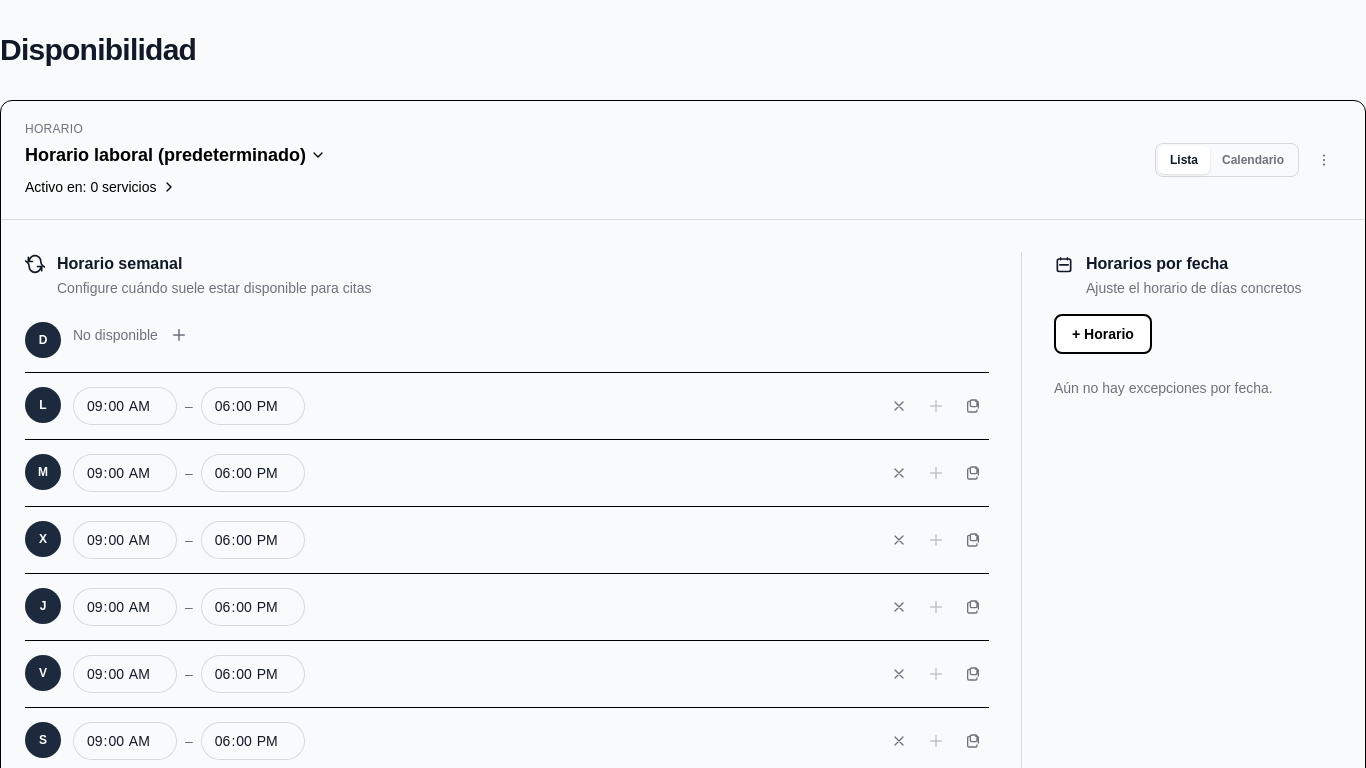
AdminAvailabilityPage › saves custom-hour exceptions including from/to in the POST body
Click the button "+ Horario". click: (1103, 334)
box: [1054,314,1152,354]
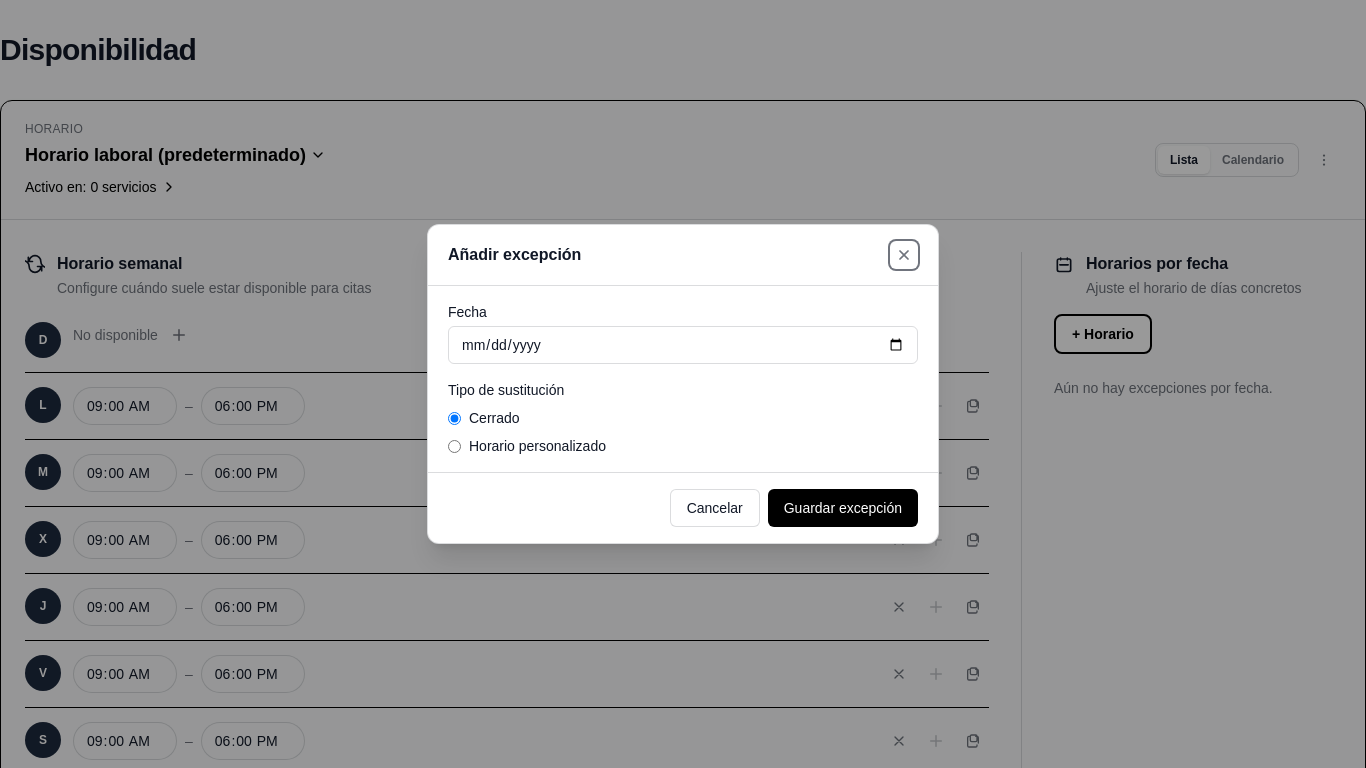
Type "2026-11-02" into the date field labelled "Fecha". click: (683, 345)
box: [448,326,918,364]
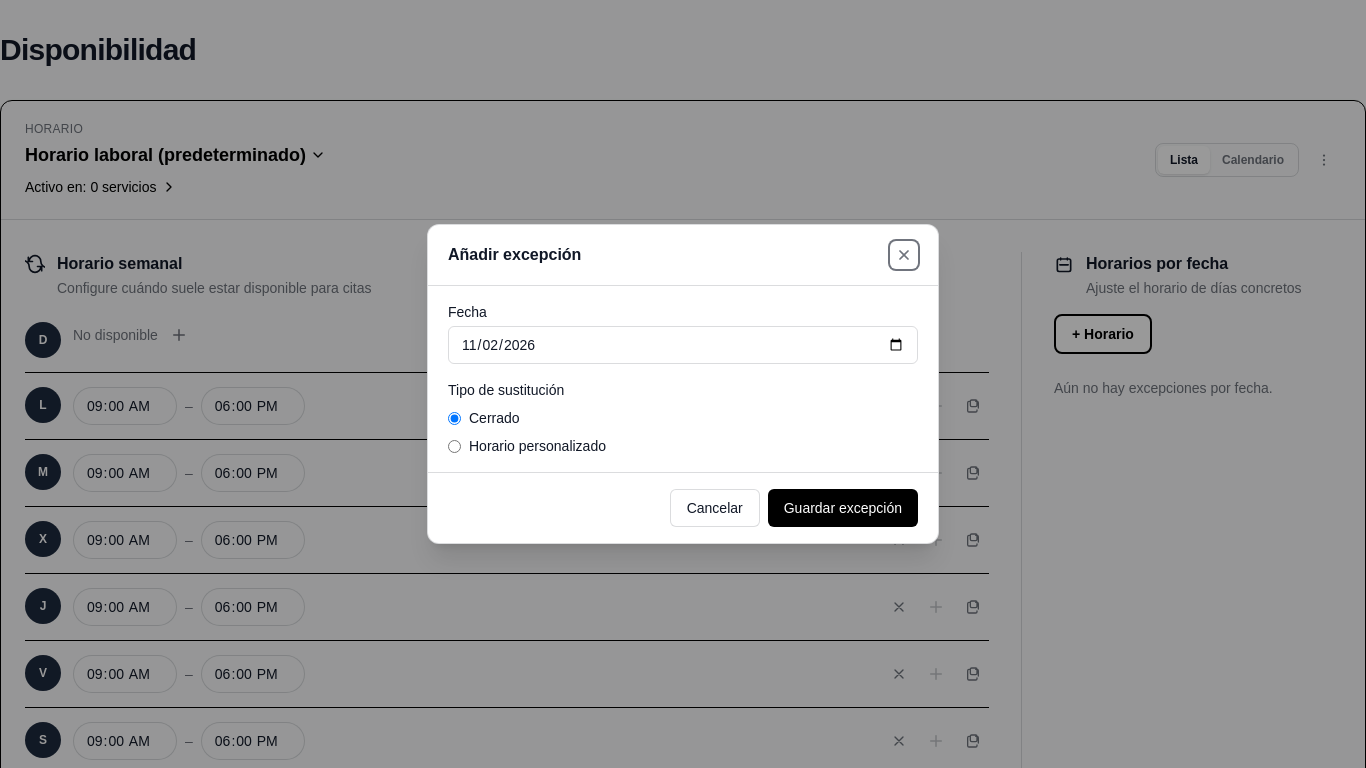
Click the radio button labelled "Horario personalizado". click: (454, 446)
box: [448,440,461,452]
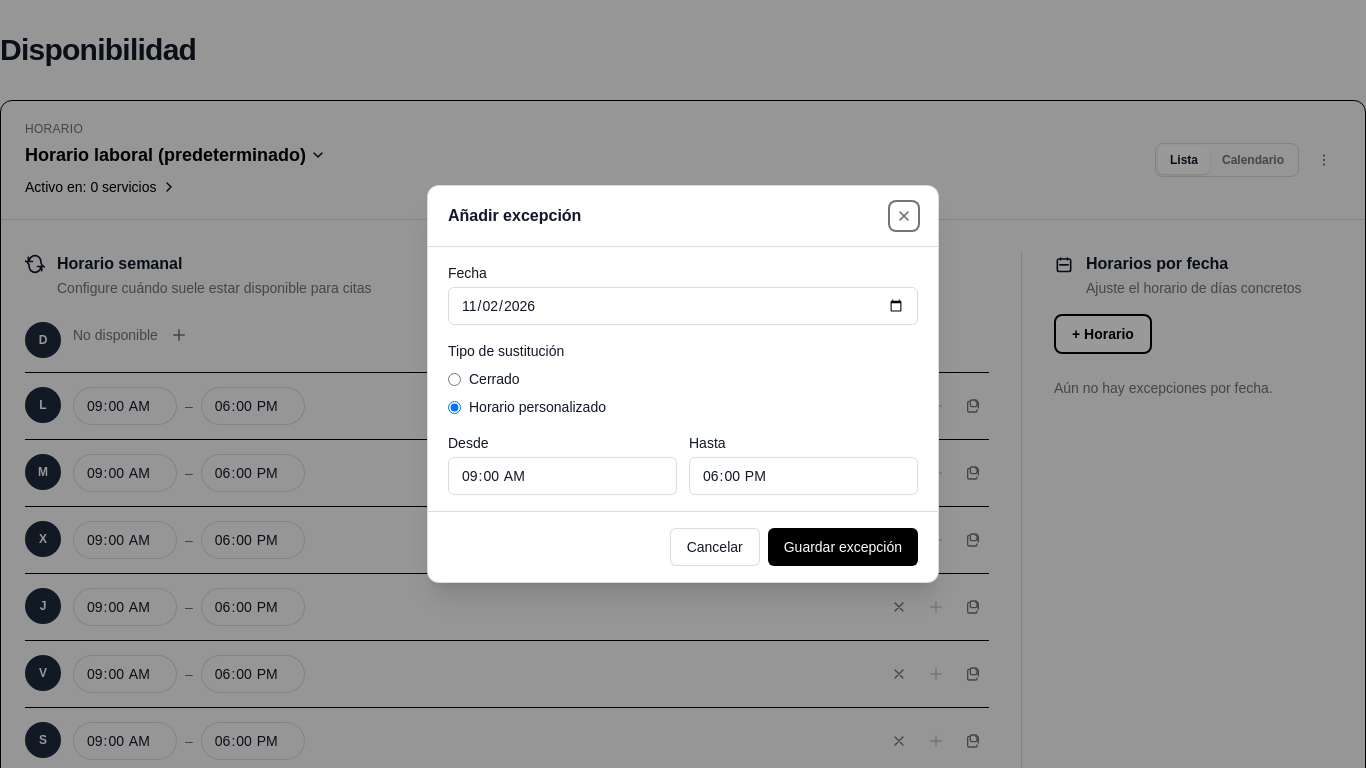
Replace the text in the time field labelled "Desde" with "12:00". click: (562, 476)
box: [448,457,677,495]
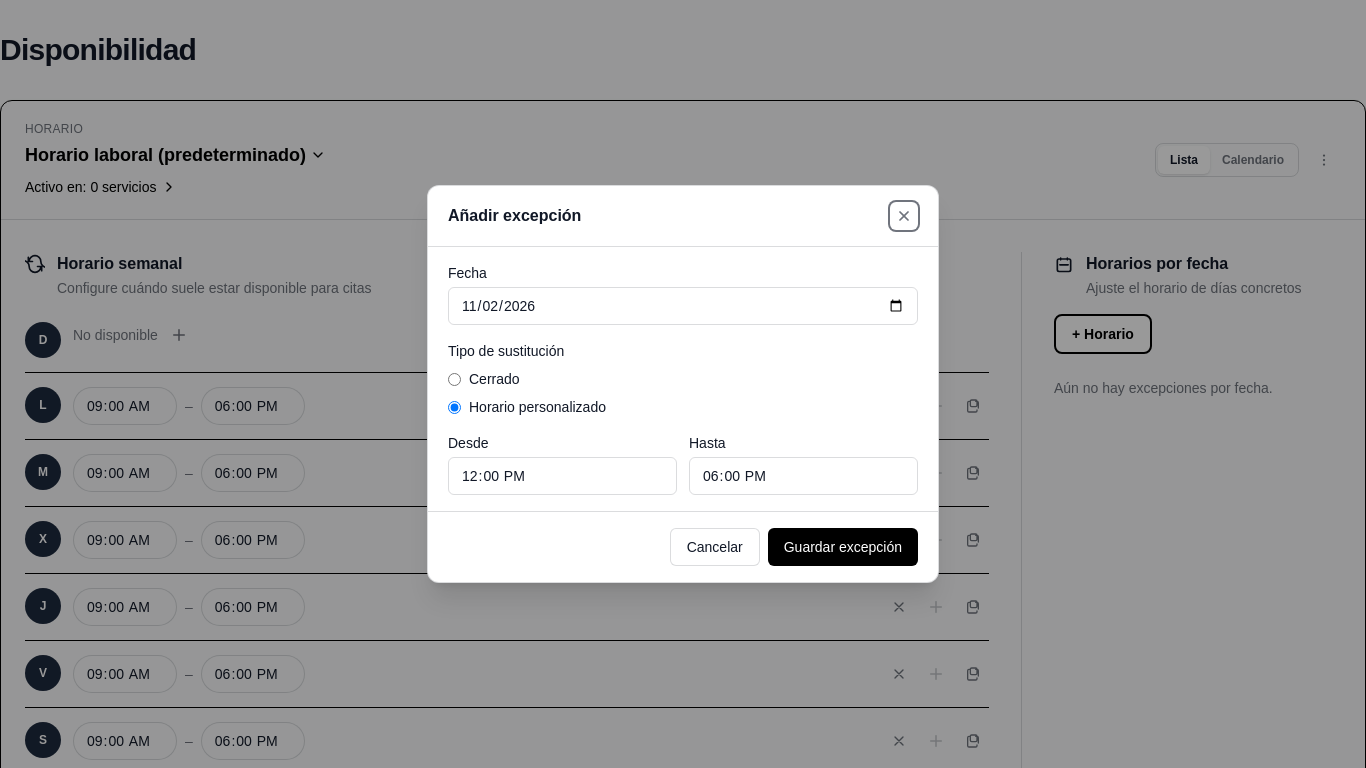
Replace the text in the time field labelled "Hasta" with "16:00". click: (804, 476)
box: [689,457,918,495]
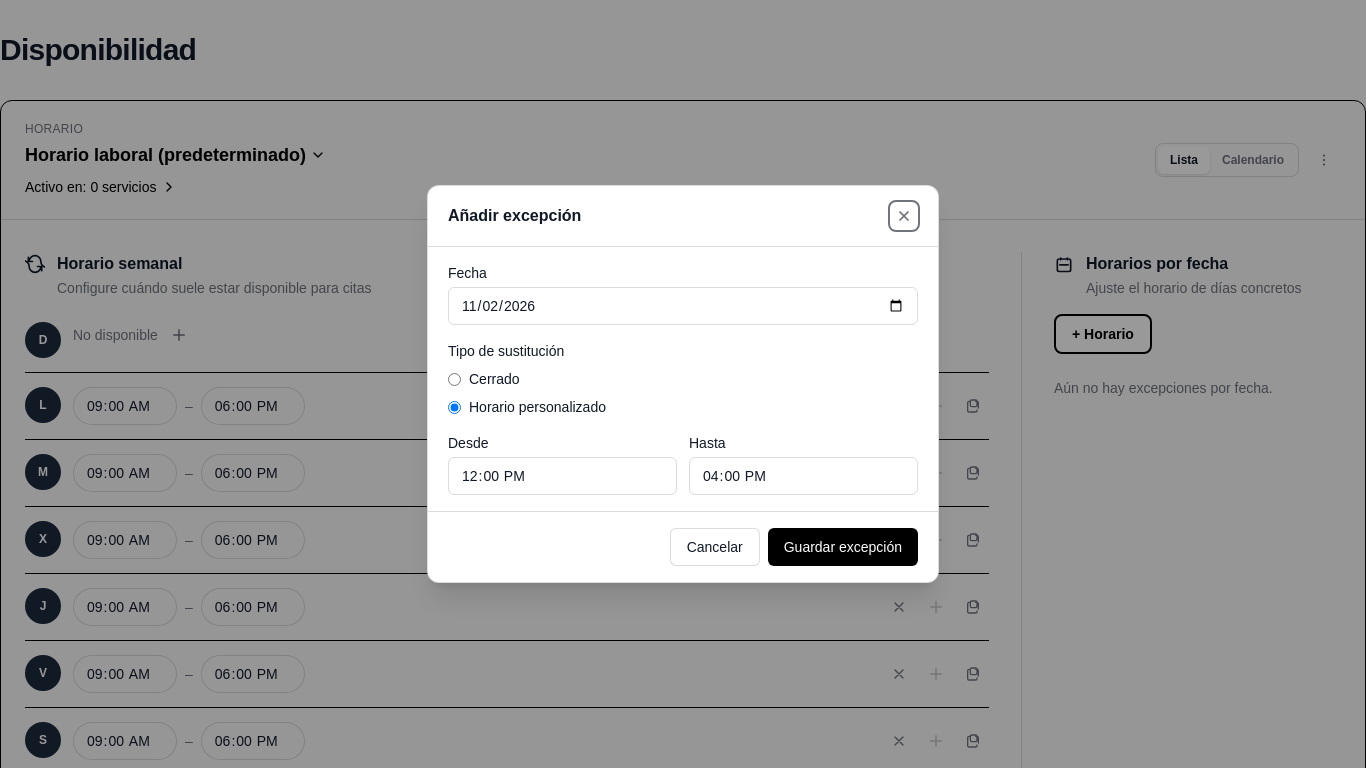
Click the button "Guardar excepción". click: (843, 547)
box: [768,528,918,566]
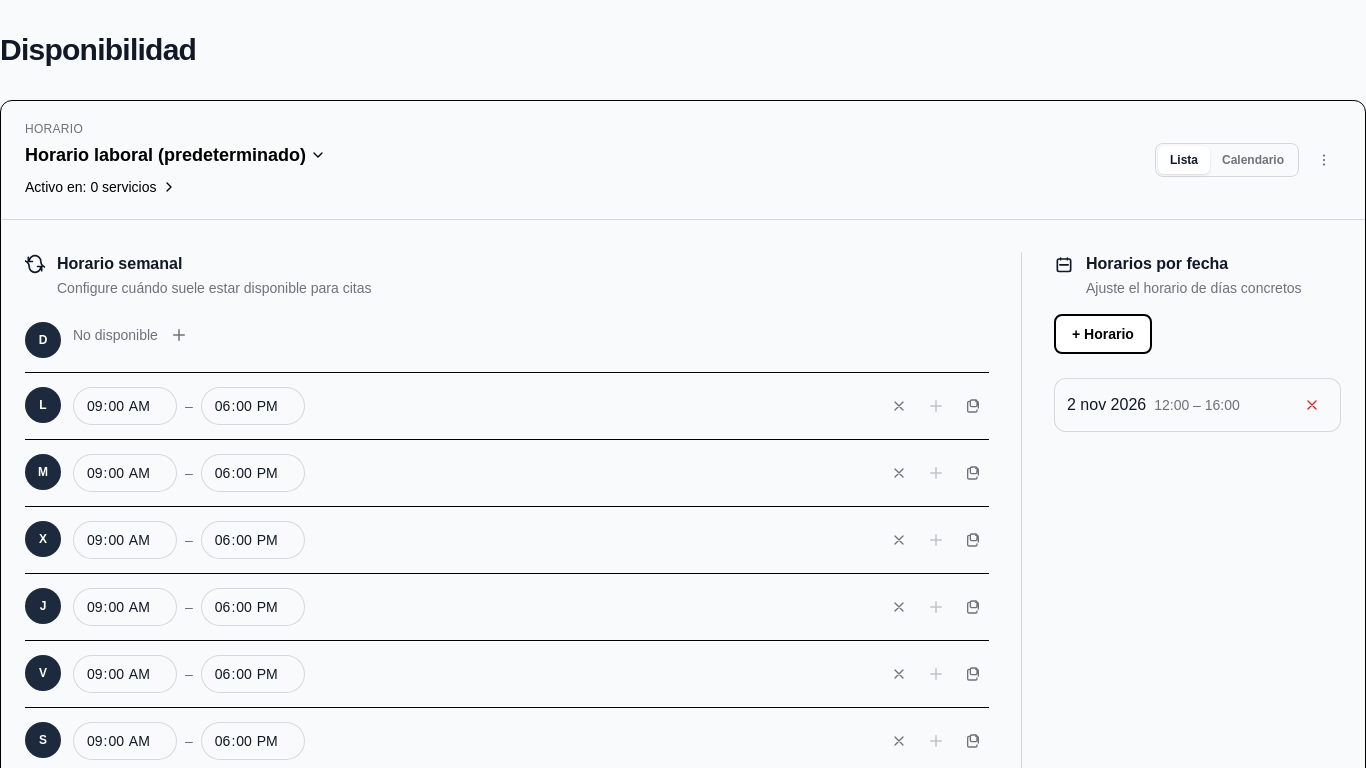
Result: the heading "Añadir excepción" is gone
